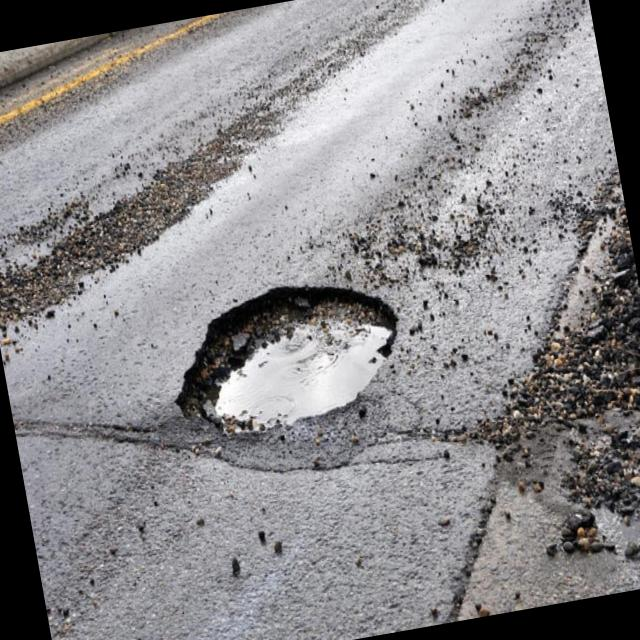Potholes: (142, 241, 448, 471)
